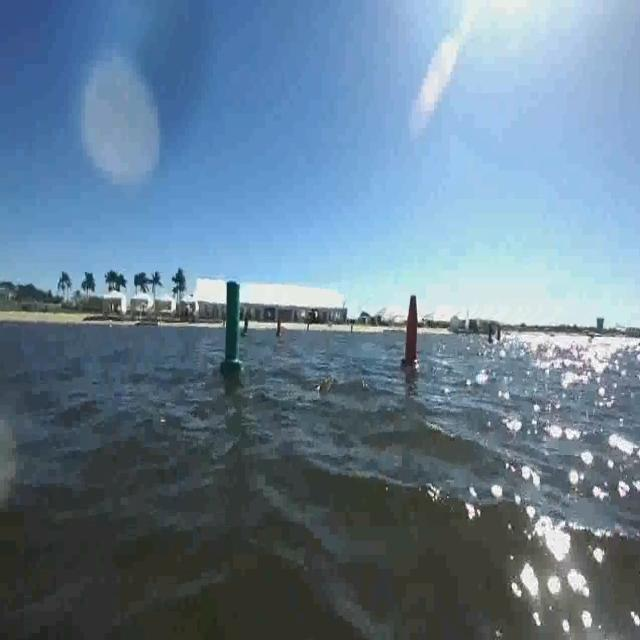black-buoy: (64, 410, 74, 428)
green-column-buoy: (222, 281, 244, 372)
red-column-buoy: (402, 294, 422, 372)
